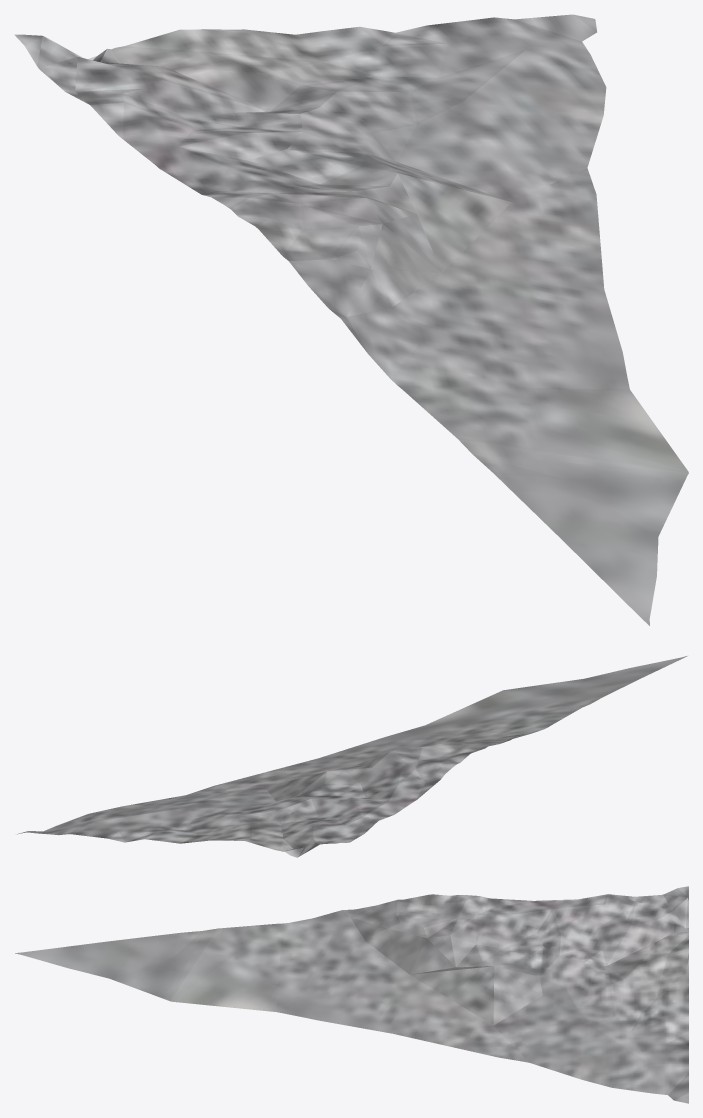
3 views of the same model, one above another, from view 1: azimuth 30°, elevation 25°; view 2: azimuth 150°, elevation 25°; view 3: azimuth 270°, elevation 25° (orthographic). The views are drawn at different scales.
Size of the model in its own units: 0.3229 by 0.0671 by 0.612.
Materials: 1 (1 with a texture image).
